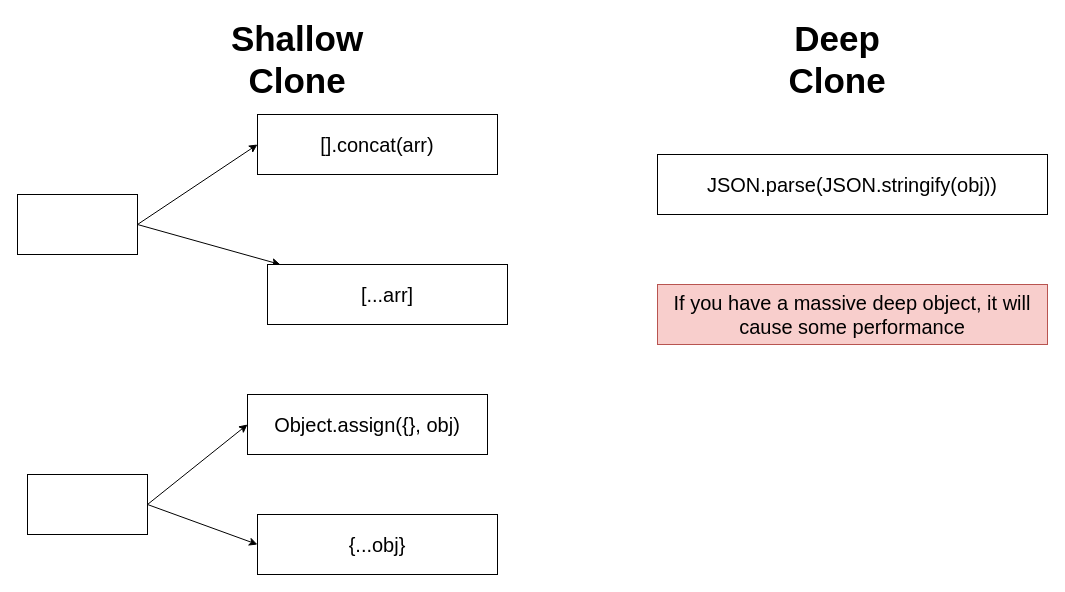
Image size: 1065x592. Some labels were removed from this diagram. Here are the shapes that lost their labels. From the top down, the box of each, then its label:
(16, 194, 138, 254): Array
(26, 474, 148, 534): Object
